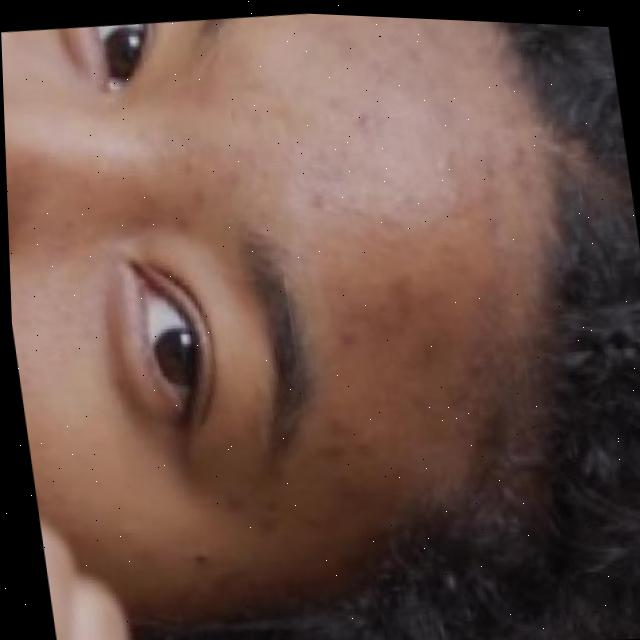Acne: (254, 111, 477, 492)
